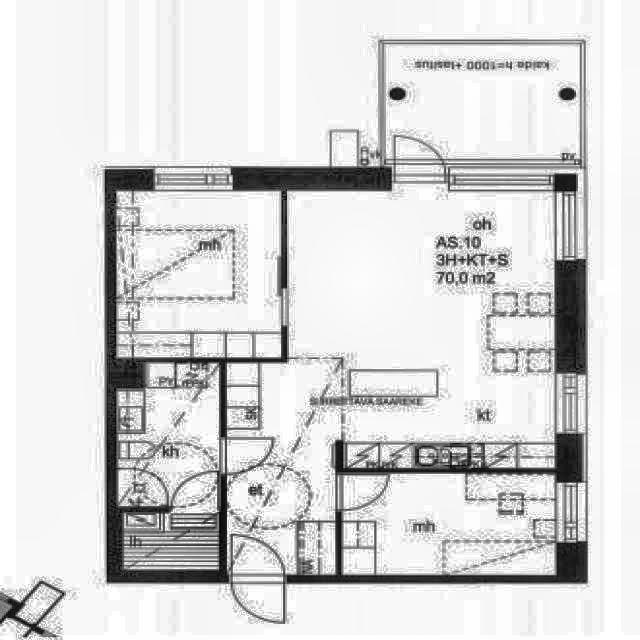room: (117, 191, 280, 357), (386, 44, 580, 166), (343, 474, 554, 574), (118, 363, 219, 507), (124, 514, 219, 569)
